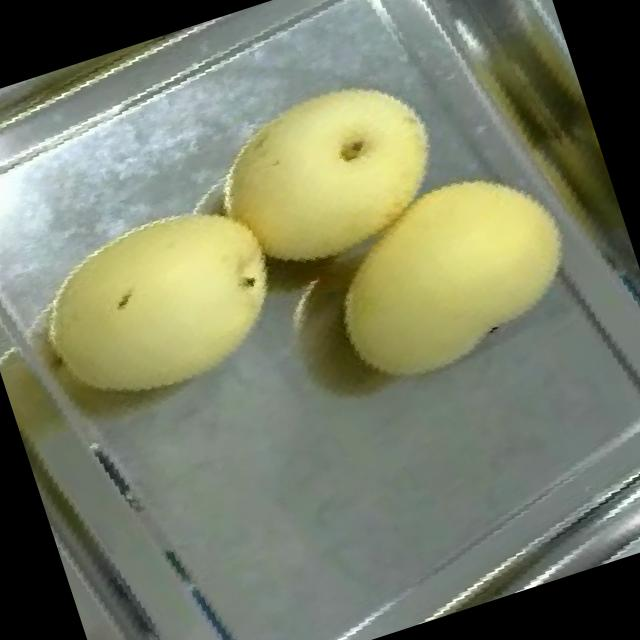Fruit: (274, 113, 632, 440), (0, 164, 325, 460), (180, 35, 486, 315)
